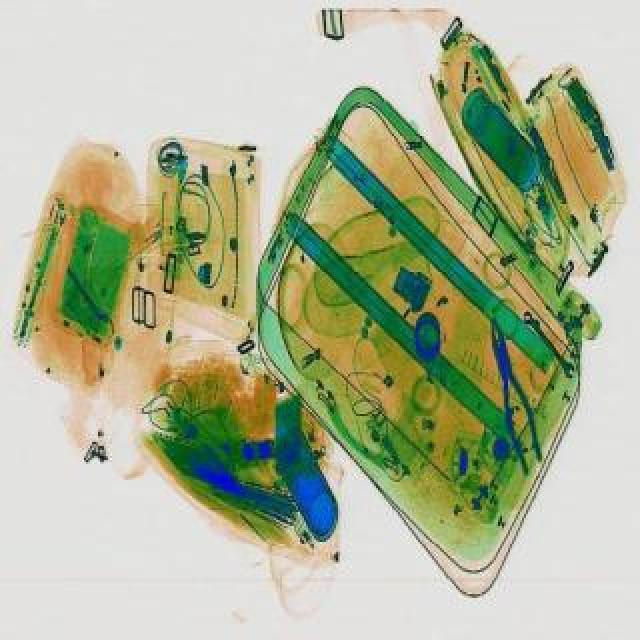wrench: (478, 318, 550, 478)
